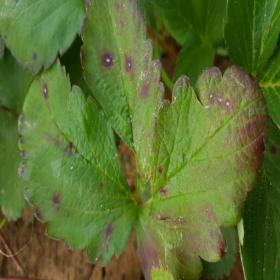Leaf Spot: (134, 64, 270, 279), (17, 55, 138, 266), (80, 0, 166, 156)
